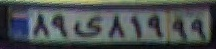character: (70, 12, 105, 41), (105, 12, 126, 42), (145, 12, 166, 42), (127, 12, 147, 43), (31, 12, 51, 39), (50, 13, 70, 40), (170, 16, 190, 42), (190, 15, 210, 41)
